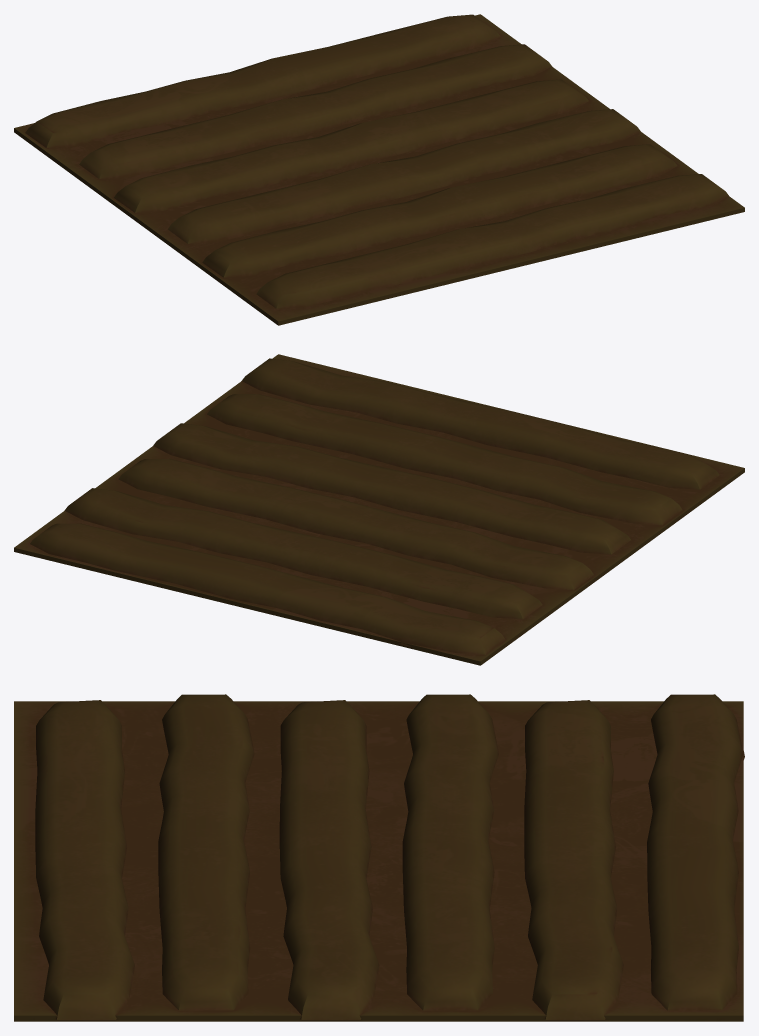
File: Plot.fbx
3 views of the same model, one above another, from view 1: azimuth 30°, elevation 25°; view 2: azimuth 150°, elevation 25°; view 3: azimuth 270°, elevation 25° (orthographic). The views are drawn at different scales.
Parts seen in each view (by area): view 1: Plot; view 2: Plot; view 3: Plot.
Part boxes in pixels (box(x1,y1,x2,y2)): Plot: box(14, 14, 744, 325); Plot: box(14, 354, 744, 665); Plot: box(14, 694, 744, 1021).
Bounding box in the file's own units: 1134 × 45.41 × 1111.
